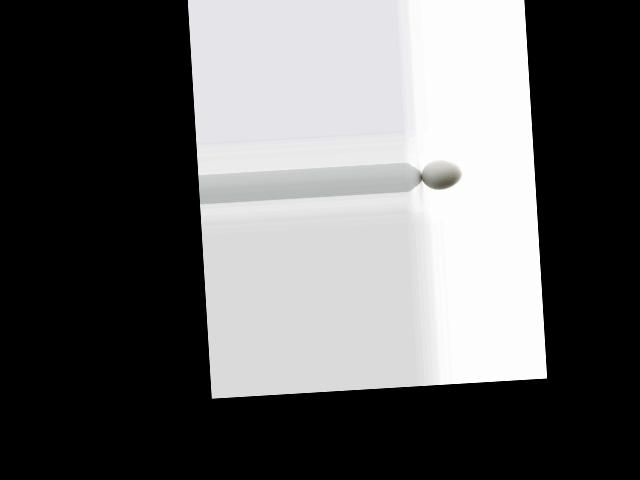egg: (420, 159, 462, 190)
